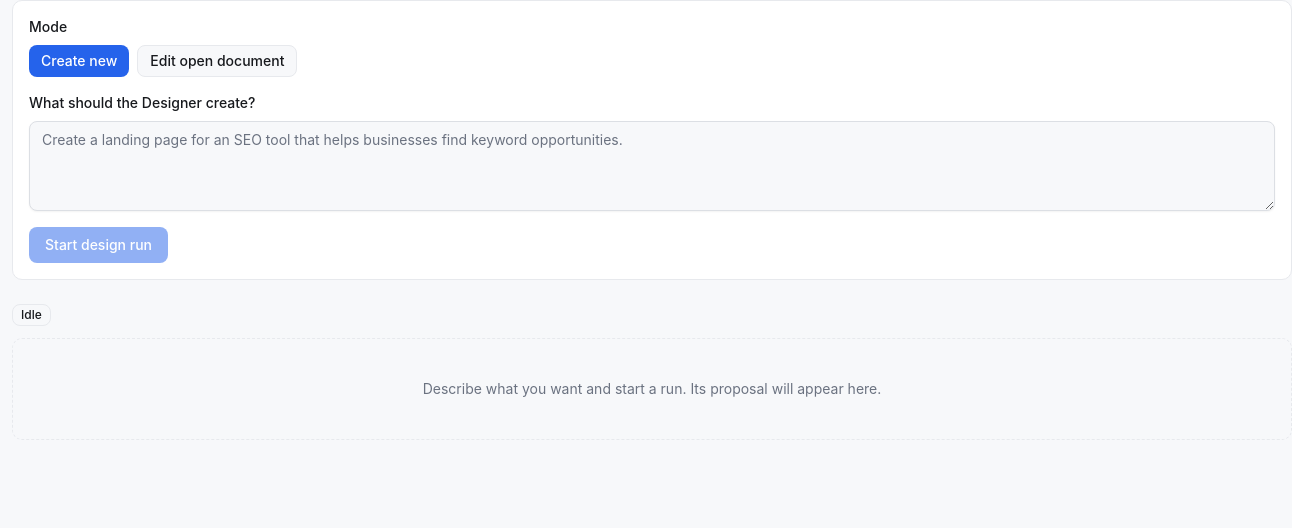
Designer creation adoption › does not offer adoption when no host can open the draft
Replace the text in the text box labelled "What should the Designer create?" with "Create a pricing page": point(652, 166) 29,121 -> 1275,211
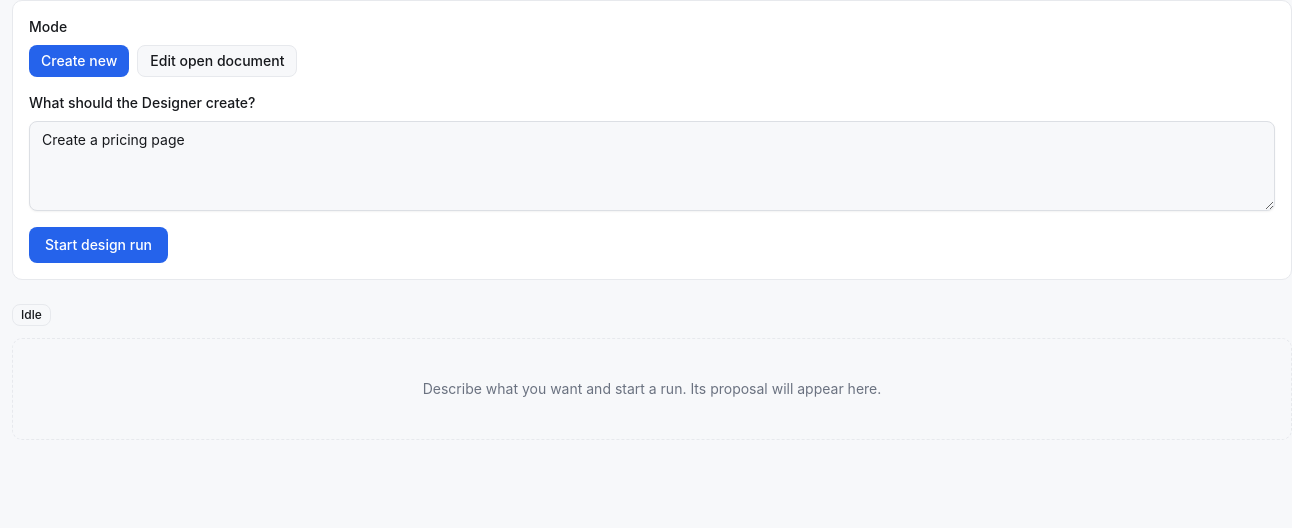
Click the button "Start design run": point(98, 245) 29,227 -> 168,263
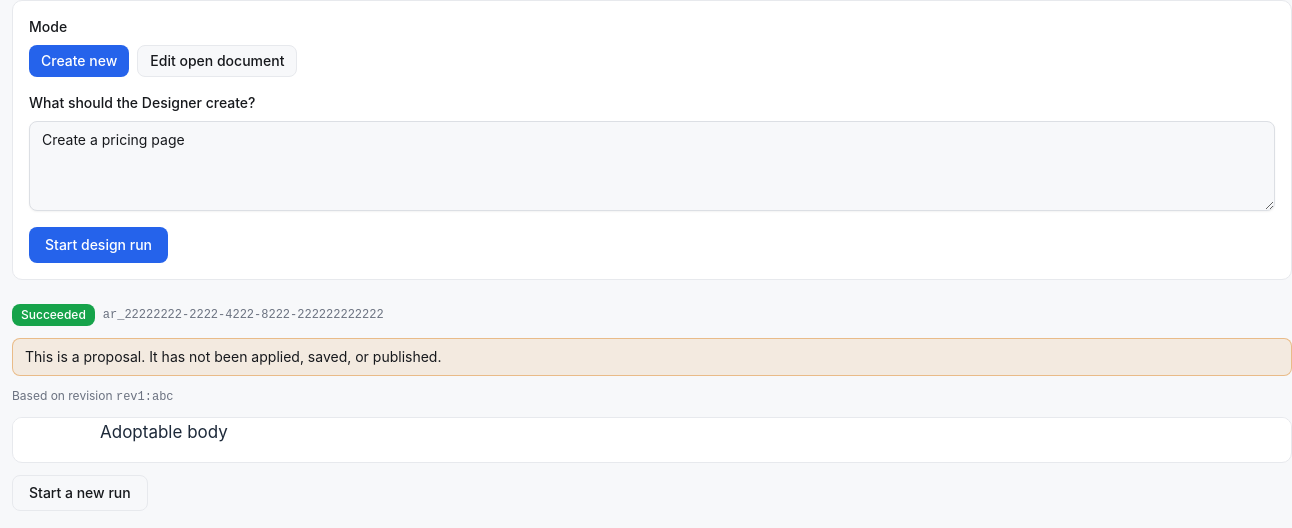
Expected: the text "Adoptable body" is shown, 100,422 -> 228,442
